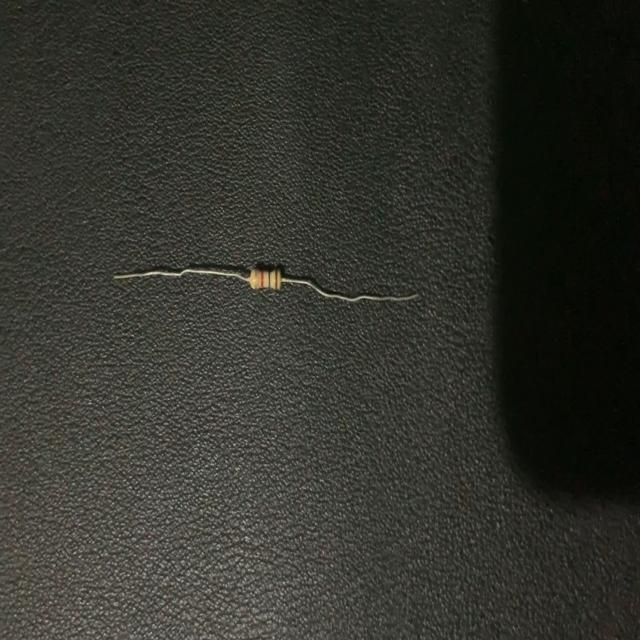resistor: (114, 256, 420, 303)
